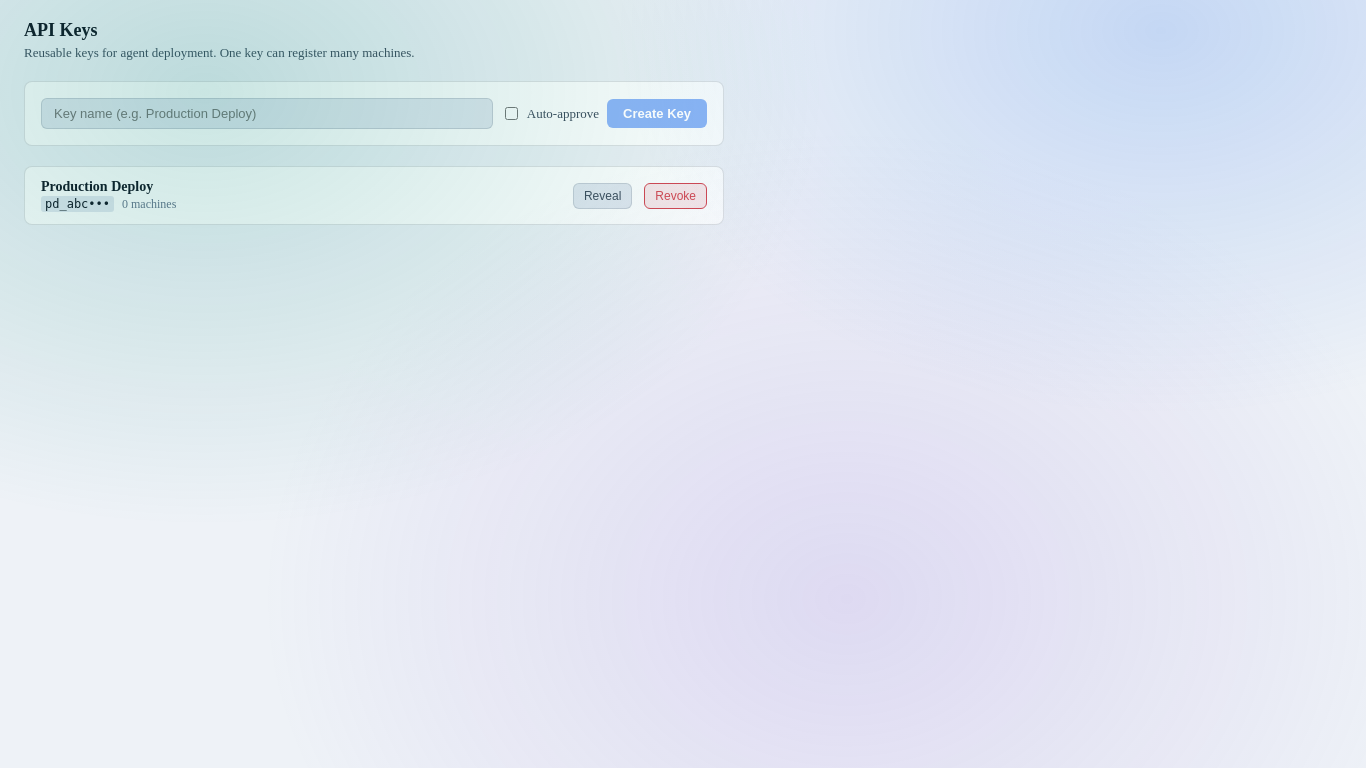
ApiKeysPage revoke › shows an error toast when revoke fails, instead of an unhandled rejection
Click the button "Revoke" at (676, 196), box 644,182 -> 707,208
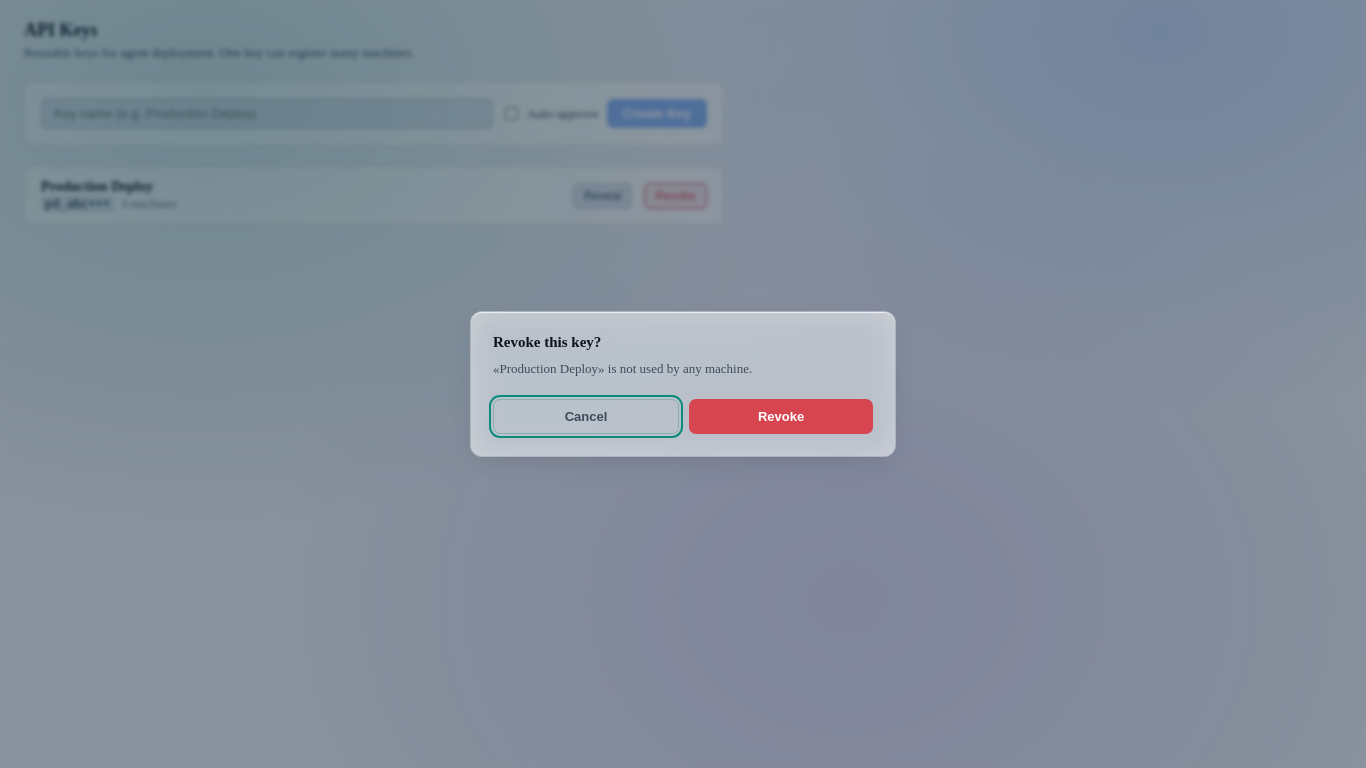
Click the button with test id "confirm-accept" at (781, 417), box 689,399 -> 873,434
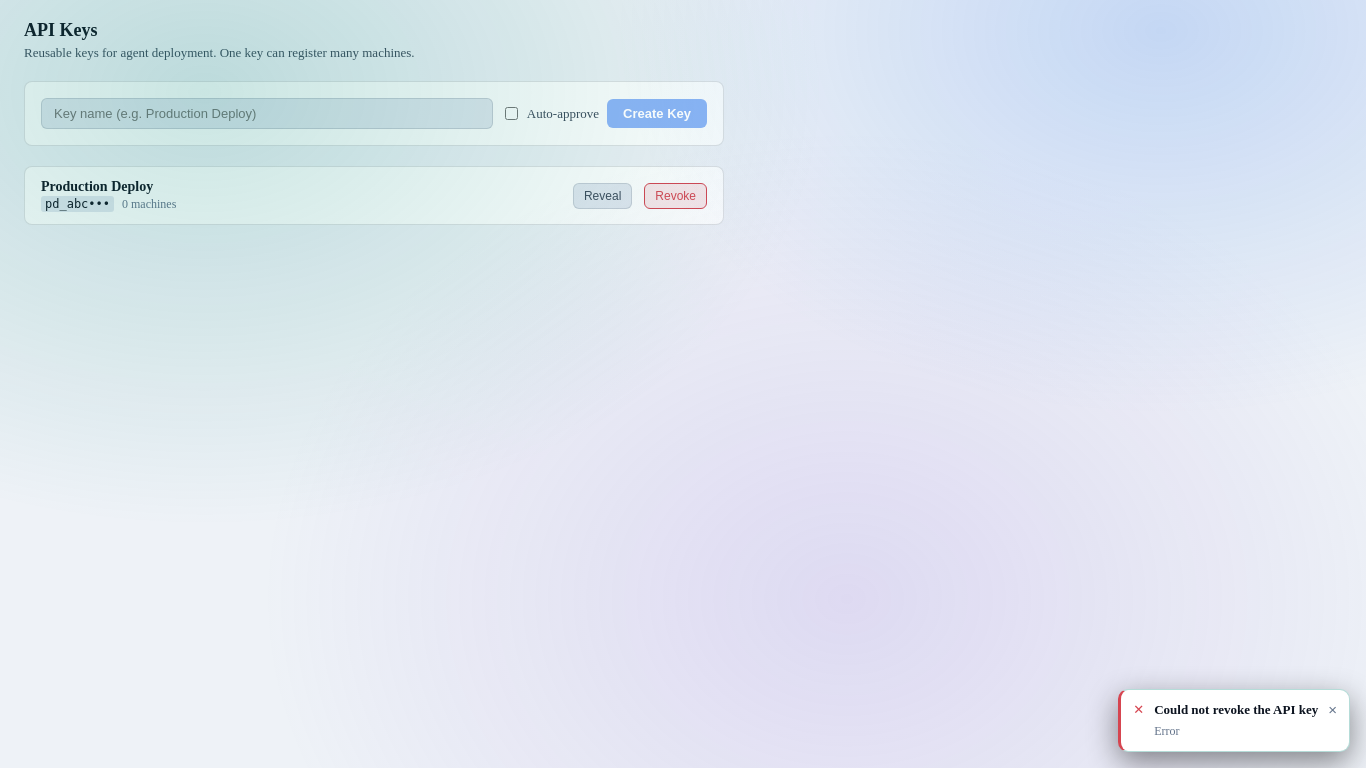
Now the text "Could not revoke the API key" is shown, box 1154,701 -> 1318,720
